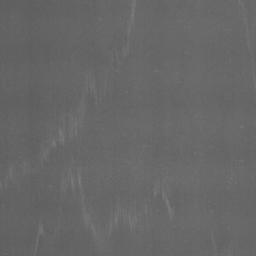Silk spot: (151, 185, 185, 210)
